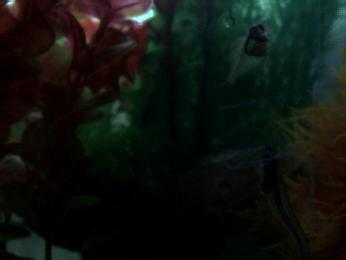X-ray fish: (218, 18, 276, 93)
glassfish: (251, 143, 313, 260)
